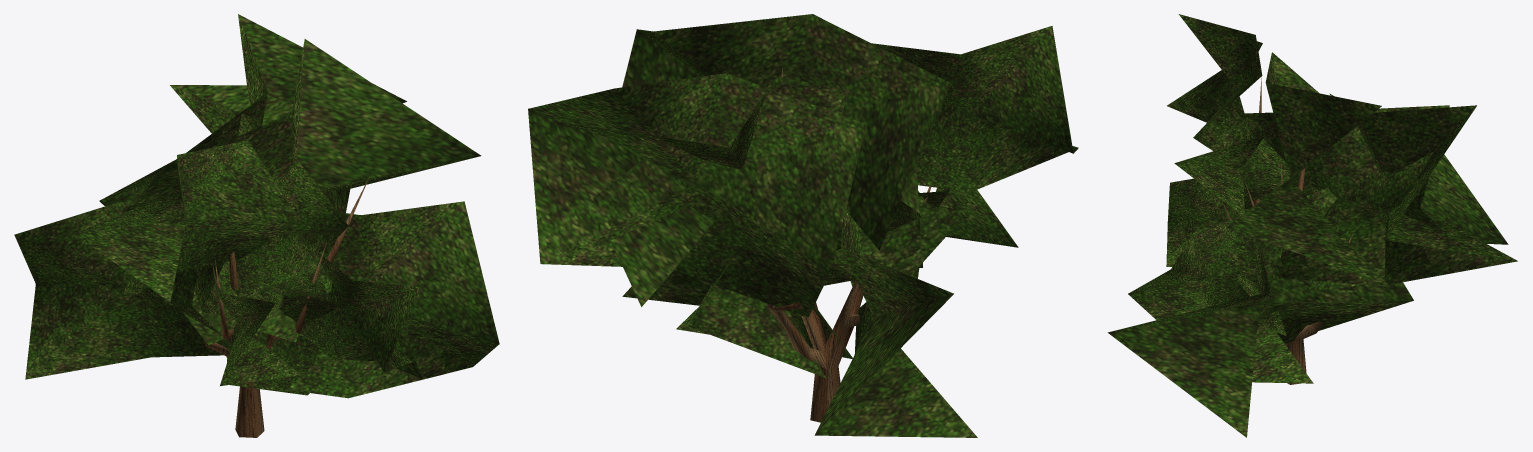
File: testpsx.glb
The picture shows the model from 3 angles, left to right: view 1: azimuth 30°, elevation 25°; view 2: azimuth 150°, elevation 25°; view 3: azimuth 270°, elevation 25°; orthographic projection. The views are drawn at different scales.
Parts seen in each view (by area): view 1: Arbol; view 2: Arbol; view 3: Arbol.
Boxes of the visible parts, box(x1,y1,x2,y2) form: Arbol: box(14, 14, 499, 437); Arbol: box(528, 14, 1078, 437); Arbol: box(1107, 14, 1517, 437).
Size of the model in its own units: 22.88 by 18.43 by 21.43.
2 materials, 2 textured.
